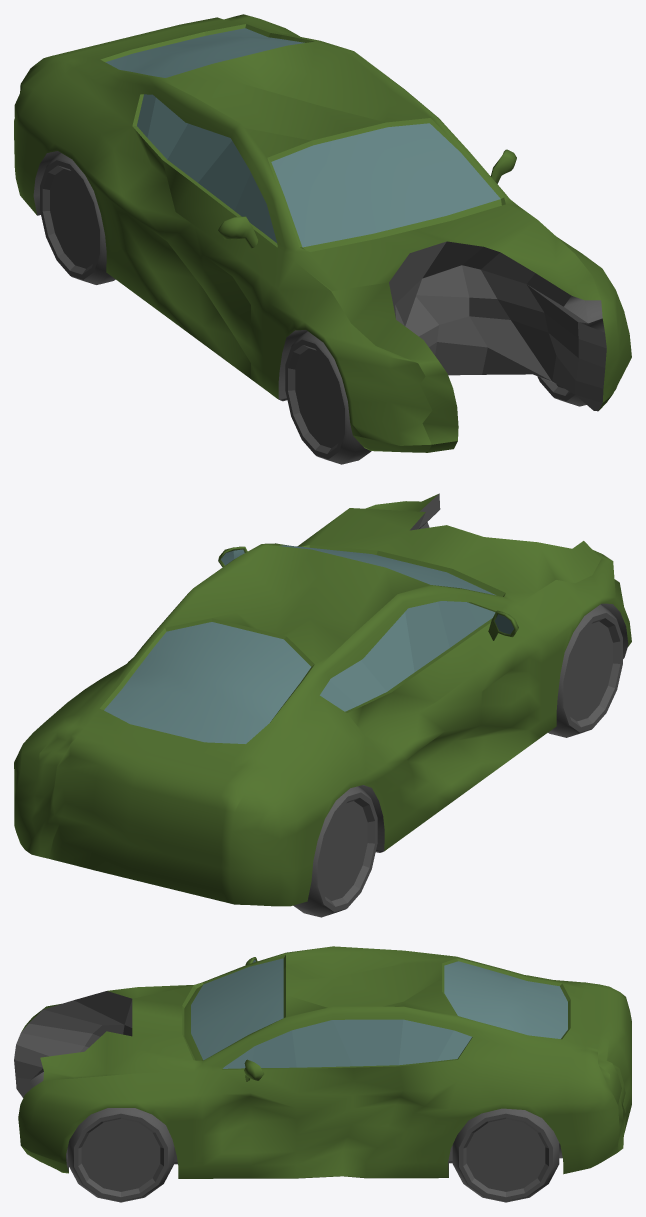
File: Auto_1.fbx
3 views of the same model, one above another, from view 1: azimuth 30°, elevation 25°; view 2: azimuth 150°, elevation 25°; view 3: azimuth 270°, elevation 25° (orthographic). The views are drawn at different scales.
Visible parts, largest first — view 1: Auto_2; view 2: Auto_2; view 3: Auto_2.
Boxes of the visible parts, x1,y1,x2,y2 form: Auto_2: [14, 14, 631, 464]; Auto_2: [14, 493, 631, 917]; Auto_2: [14, 946, 631, 1202].
Size of the model in its own units: 200 by 145 by 456.
